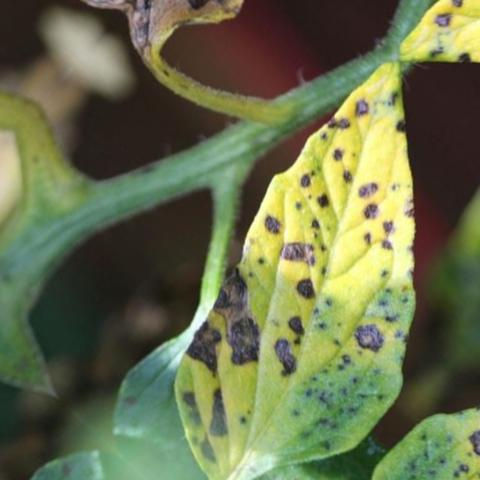Tomato Septoria leaf spot: (80, 40, 480, 480)
